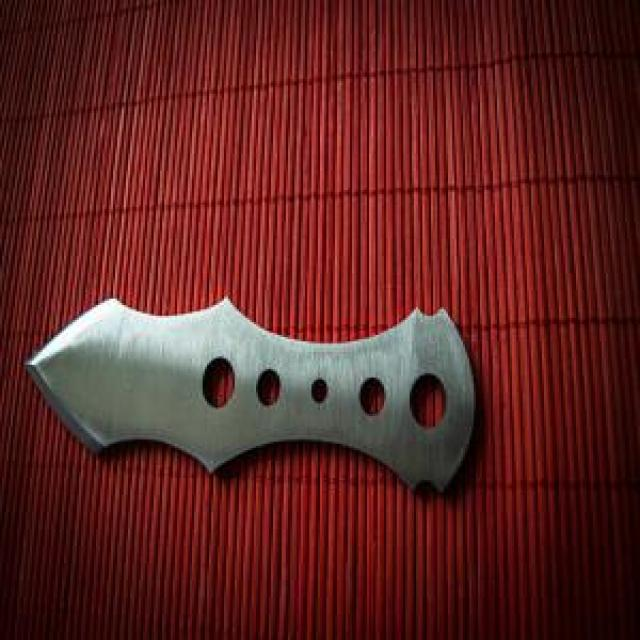knife: (28, 296, 478, 495)
